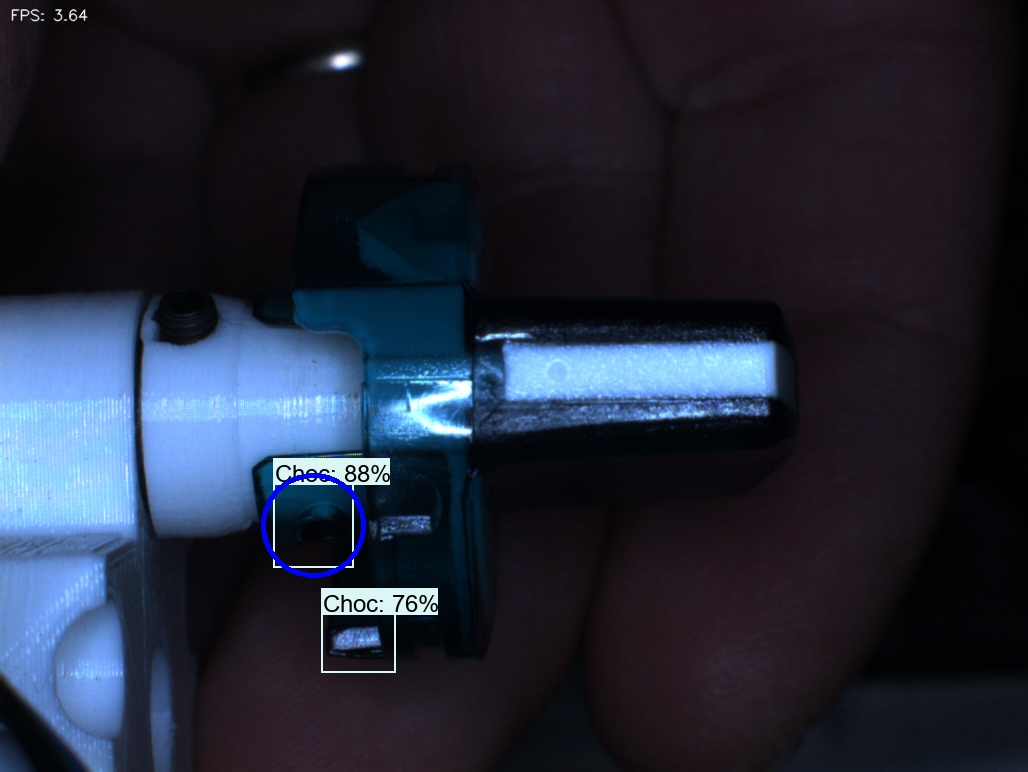DentOk: (324, 188, 394, 280)
